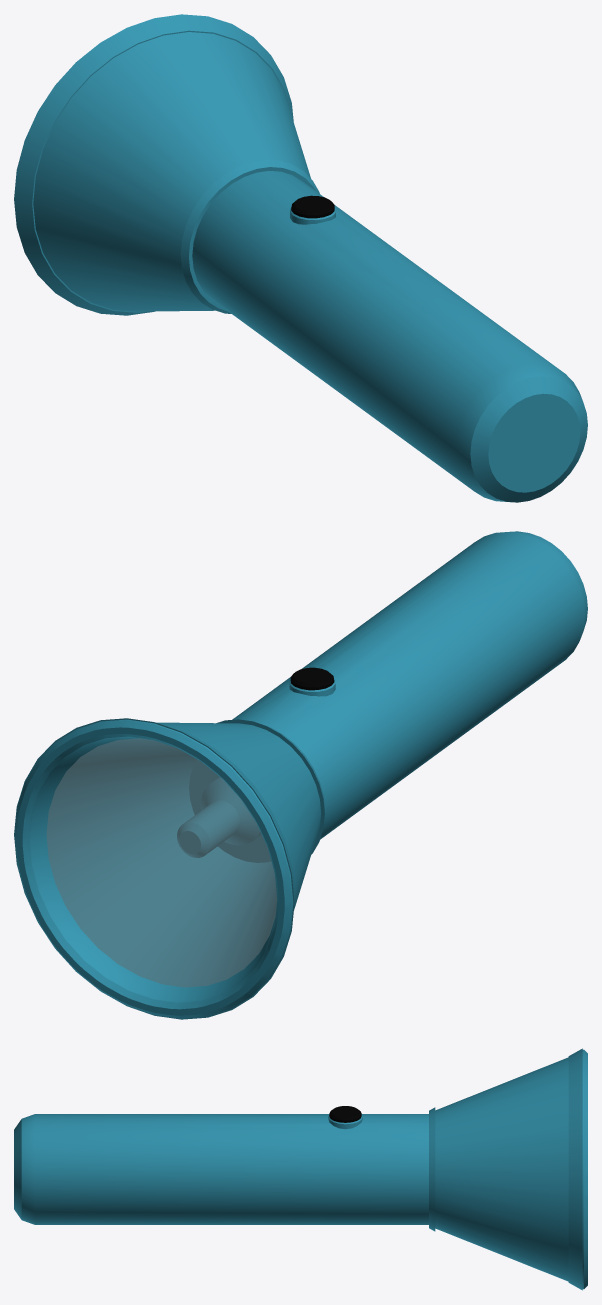
Rendered from Flashlight Tier1.fbx.
3 renders of one model, top to bottom at view 1: azimuth 30°, elevation 25°; view 2: azimuth 150°, elevation 25°; view 3: azimuth 270°, elevation 25°, orthographic. The views are drawn at different scales.
Parts seen in each view (by area): view 1: Flashlight Tier1; view 2: Flashlight Tier1; view 3: Flashlight Tier1.
Part boxes in pixels (x1,y1,x2,y2): Flashlight Tier1: [14, 14, 587, 502]; Flashlight Tier1: [14, 531, 587, 1019]; Flashlight Tier1: [14, 1048, 587, 1290].
Size of the model in its own units: 24.27 by 24.27 by 57.49.
Materials: 3 (2 with a texture image).
